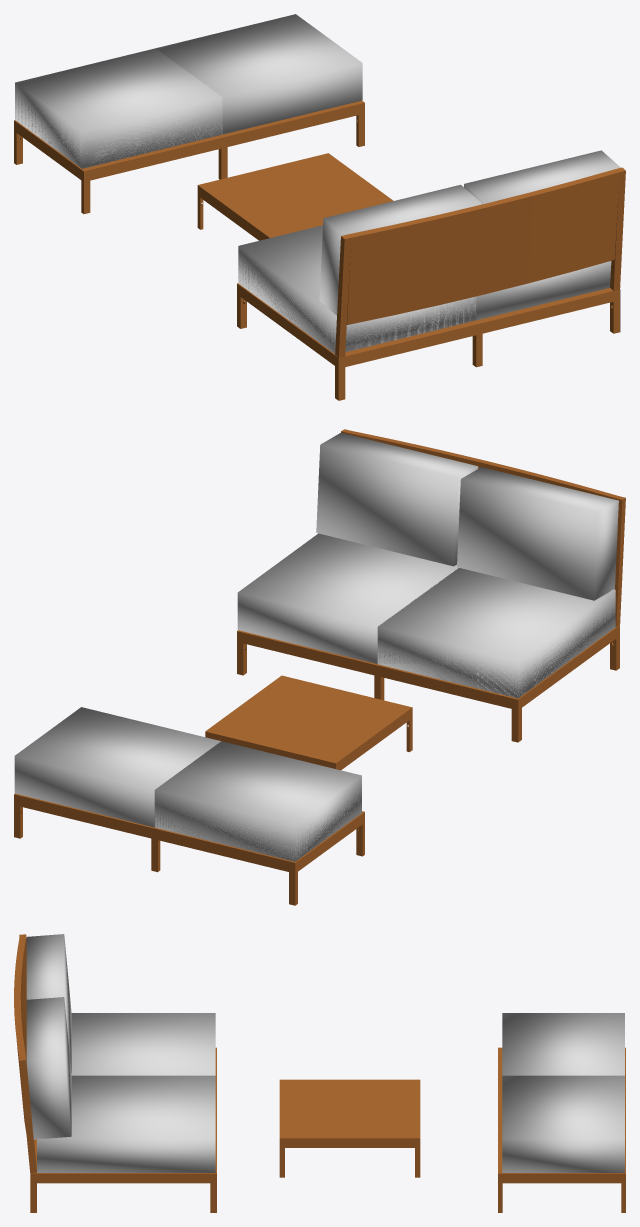
Rendered from lounge.FBX.
3 views of the same model, one above another, from view 1: azimuth 30°, elevation 25°; view 2: azimuth 150°, elevation 25°; view 3: azimuth 270°, elevation 25° (orthographic). The views are drawn at different scales.
Parts seen in each view (by area): view 1: BackFrame1, Cushion003, Cushion004, Cushion1, BottomFram001, BottomFram, BottomFram002, BackCushio, BackCush01, Cushion2; view 2: Cushion1, Cushion003, BackCushio, Cushion2, BackCush01, Cushion004, BottomFram001, BottomFram, BottomFram002, BackFrame1; view 3: Cushion2, Cushion004, BottomFram001, Cushion1, Cushion003, BackCush01, BackCushio, BottomFram, BottomFram002, BackFrame1.
Part boxes in pixels (x1=…): BackFrame1: x1=335, y1=167, x2=625, y2=357; Cushion003: x1=15, y1=48, x2=222, y2=168; Cushion004: x1=155, y1=14, x2=362, y2=134; Cushion1: x1=238, y1=225, x2=476, y2=353; BottomFram001: x1=197, y1=153, x2=393, y2=240; BottomFram: x1=237, y1=283, x2=619, y2=400; BottomFram002: x1=14, y1=100, x2=364, y2=213; BackCushio: x1=319, y1=184, x2=481, y2=315; BackCush01: x1=464, y1=150, x2=620, y2=204; Cushion2: x1=475, y1=261, x2=611, y2=320; Cushion1: x1=377, y1=568, x2=615, y2=698; Cushion003: x1=154, y1=741, x2=361, y2=861; BackCushio: x1=457, y1=467, x2=618, y2=600; Cushion2: x1=237, y1=533, x2=458, y2=663; BackCush01: x1=316, y1=433, x2=478, y2=566; Cushion004: x1=14, y1=707, x2=221, y2=827; BottomFram001: x1=205, y1=675, x2=412, y2=770; BottomFram: x1=237, y1=625, x2=619, y2=742; BottomFram002: x1=14, y1=793, x2=364, y2=905; BackFrame1: x1=341, y1=429, x2=625, y2=627; Cushion2: x1=37, y1=1075, x2=215, y2=1172; Cushion004: x1=502, y1=1075, x2=624, y2=1172; BottomFram001: x1=279, y1=1079, x2=420, y2=1177; Cushion1: x1=71, y1=1013, x2=215, y2=1075; Cushion003: x1=502, y1=1013, x2=624, y2=1075; BackCush01: x1=26, y1=997, x2=71, y2=1139; BackCushio: x1=26, y1=934, x2=71, y2=1073; BottomFram: x1=30, y1=1047, x2=216, y2=1212; BottomFram002: x1=498, y1=1047, x2=625, y2=1212; BackFrame1: x1=14, y1=934, x2=36, y2=1173.
Bounding box in the file's own units: 55.04 × 31.45 × 113.
